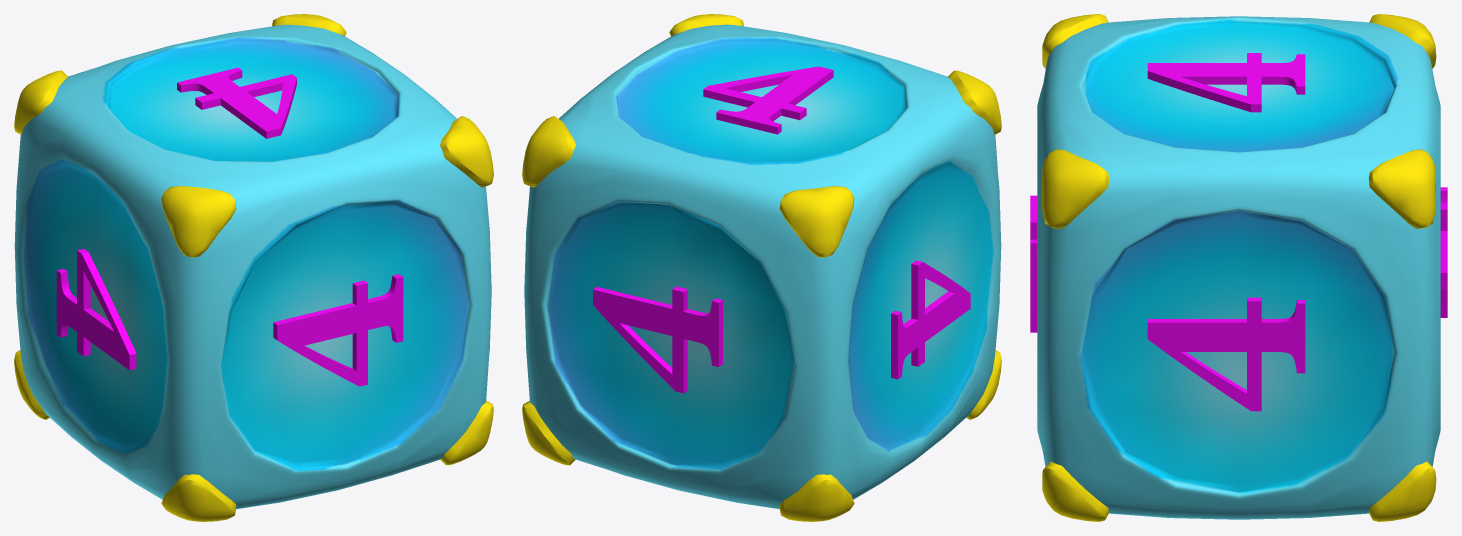
Rendered from Dice4.fbx.
3 views of the same model, side by side, from view 1: azimuth 30°, elevation 25°; view 2: azimuth 150°, elevation 25°; view 3: azimuth 270°, elevation 25° (orthographic). The views are drawn at different scales.
Visible parts, largest first — view 1: Cube.002, acessery, Text6_04, Text2_04, Text3_04; view 2: Cube.002, acessery, Text5_04, Text3_04, Text2_04; view 3: Cube.002, acessery, Text4_04, Text3_04, Text6_04, Text5_04.
Boxes of the visible parts, x1,y1,x2,y2 form: Cube.002: (14,24,491,509); acessery: (14,14,493,521); Text6_04: (273,274,403,386); Text2_04: (56,248,136,370); Text3_04: (177,67,296,138); Cube.002: (524,24,1001,509); acessery: (522,14,1001,521); Text5_04: (593,286,722,393); Text3_04: (703,66,833,134); Text2_04: (891,260,970,379); Cube.002: (1037,16,1440,519); acessery: (1041,14,1436,521); Text4_04: (1147,297,1305,411); Text3_04: (1147,53,1305,112); Text6_04: (1030,195,1037,332); Text5_04: (1440,187,1447,317).
Size of the model in its own units: 203 by 203 by 203.
